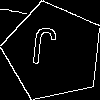J: (28, 26, 59, 75)
